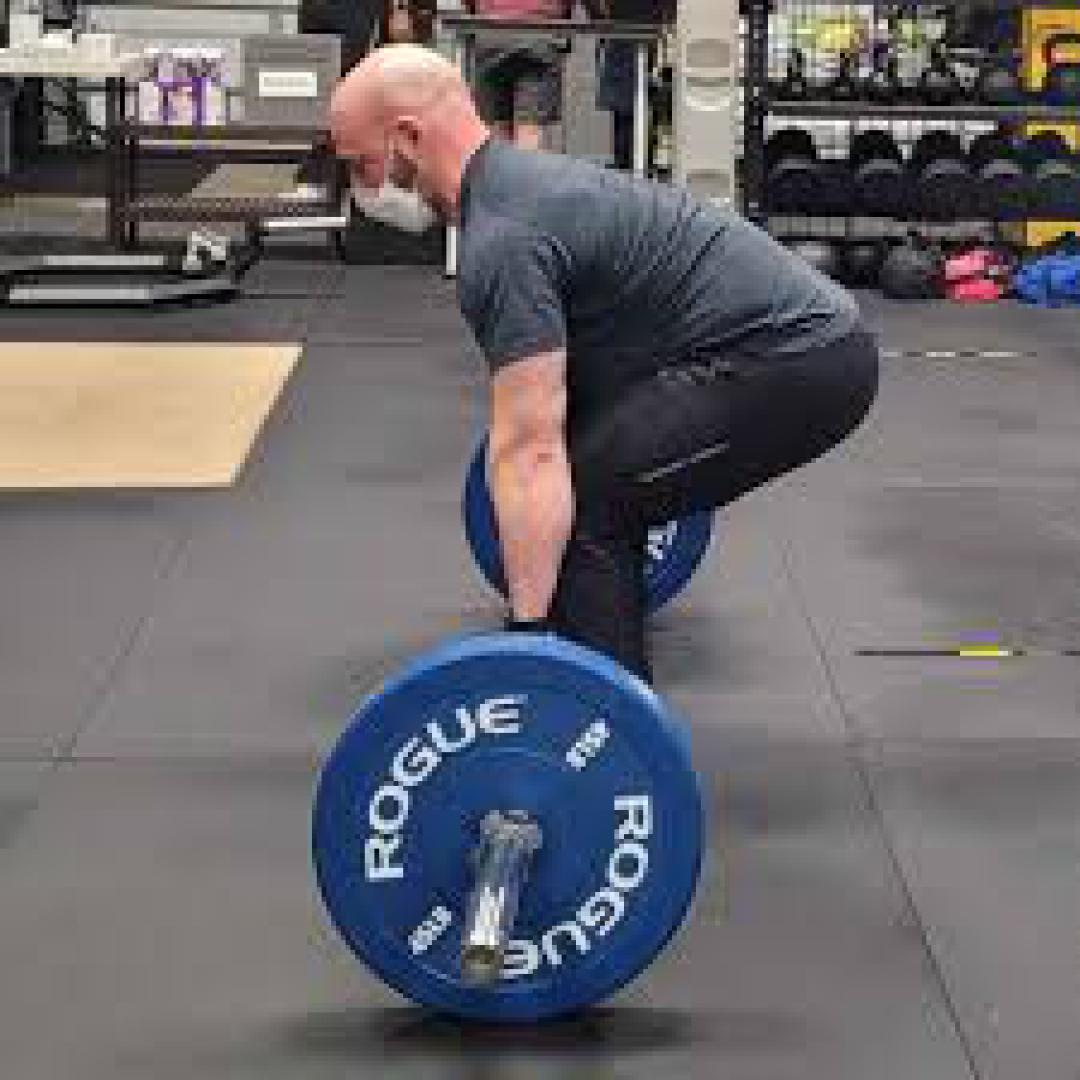Bar: (456, 936, 509, 988)
Barbell: (316, 632, 706, 1027)
